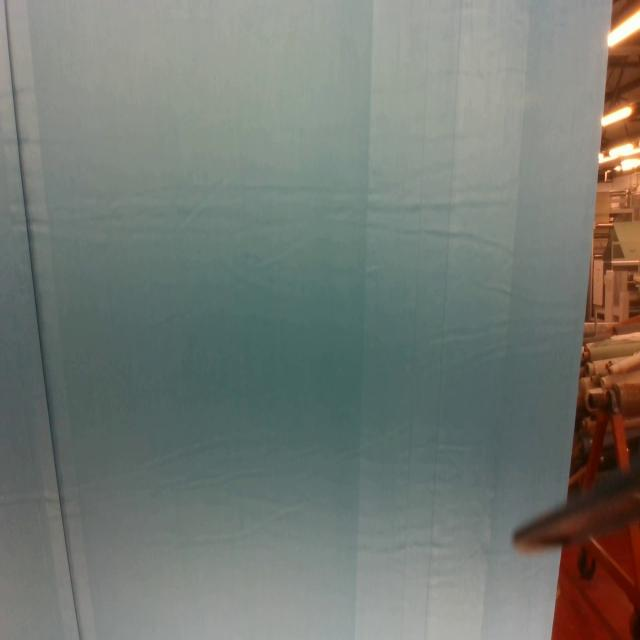crease: (4, 0, 82, 640), (399, 0, 462, 639)
